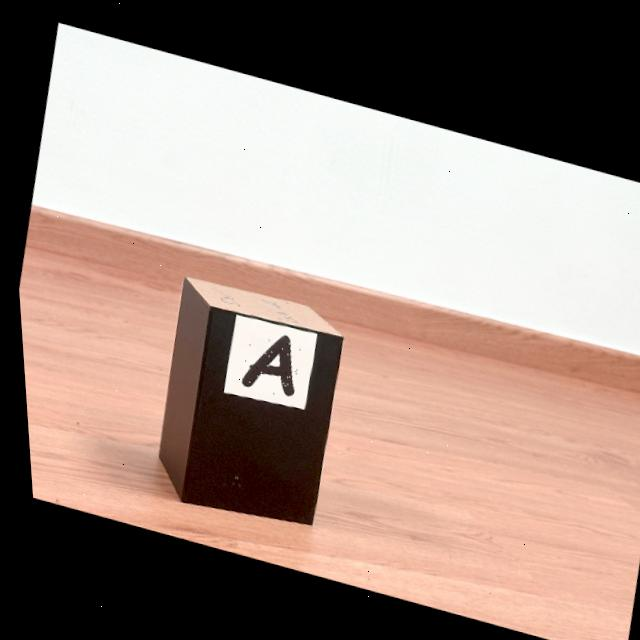A: (236, 331, 289, 392)
